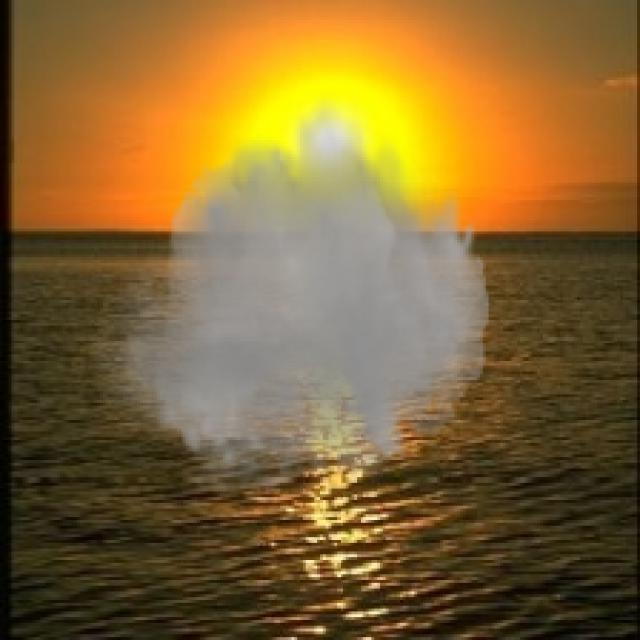smoke: (89, 89, 500, 512)
